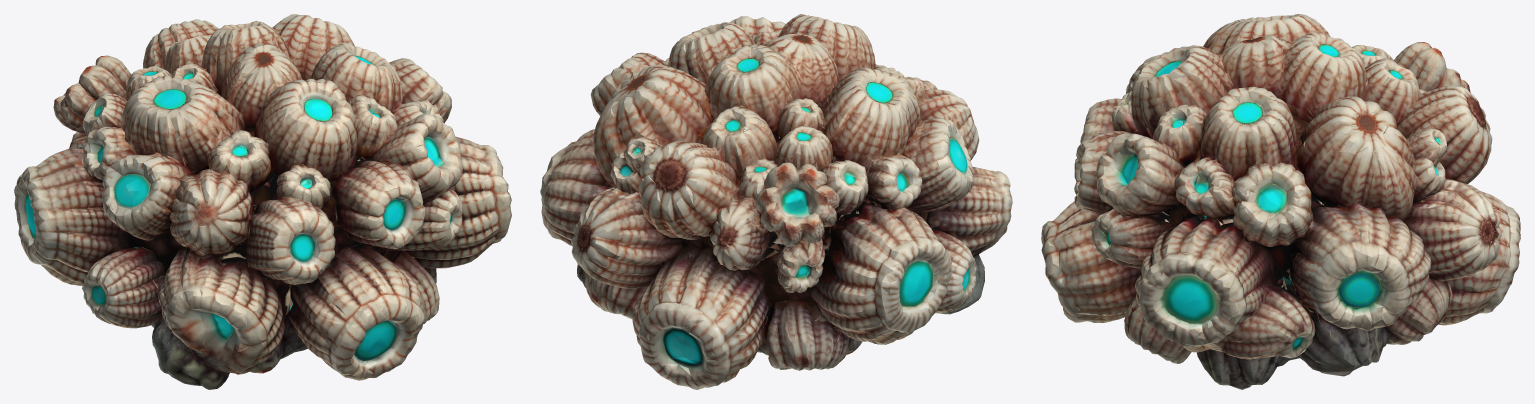
The model's file is barnacle_cluster.glb.
3 views of the same model, side by side, from view 1: azimuth 30°, elevation 25°; view 2: azimuth 150°, elevation 25°; view 3: azimuth 270°, elevation 25° (orthographic). The views are drawn at different scales.
Size of the model in its own units: 1.87 by 1.26 by 1.9.
Materials: 1 (1 with a texture image).
